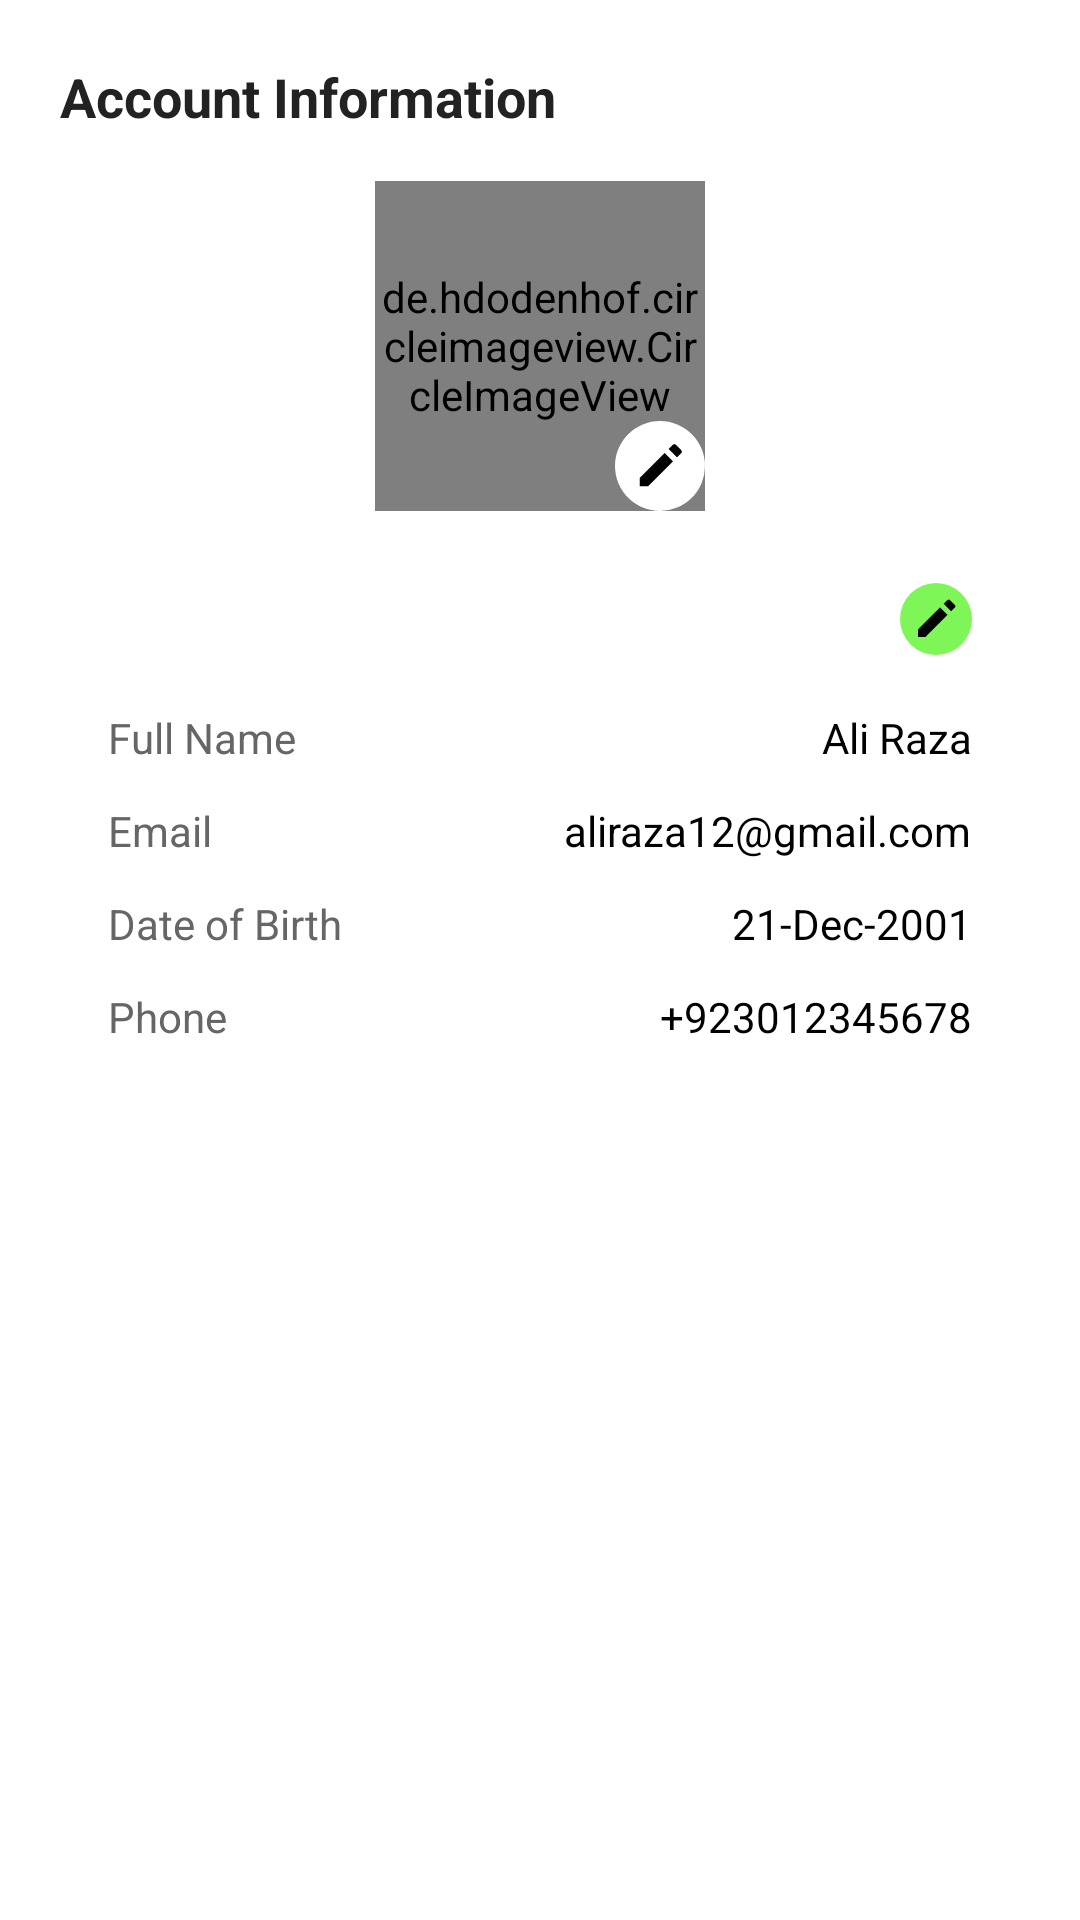

Point at icon controls on the screen. Image size 1080x1920, points as point (x, y).
edit: point (660, 466), point (936, 619)
